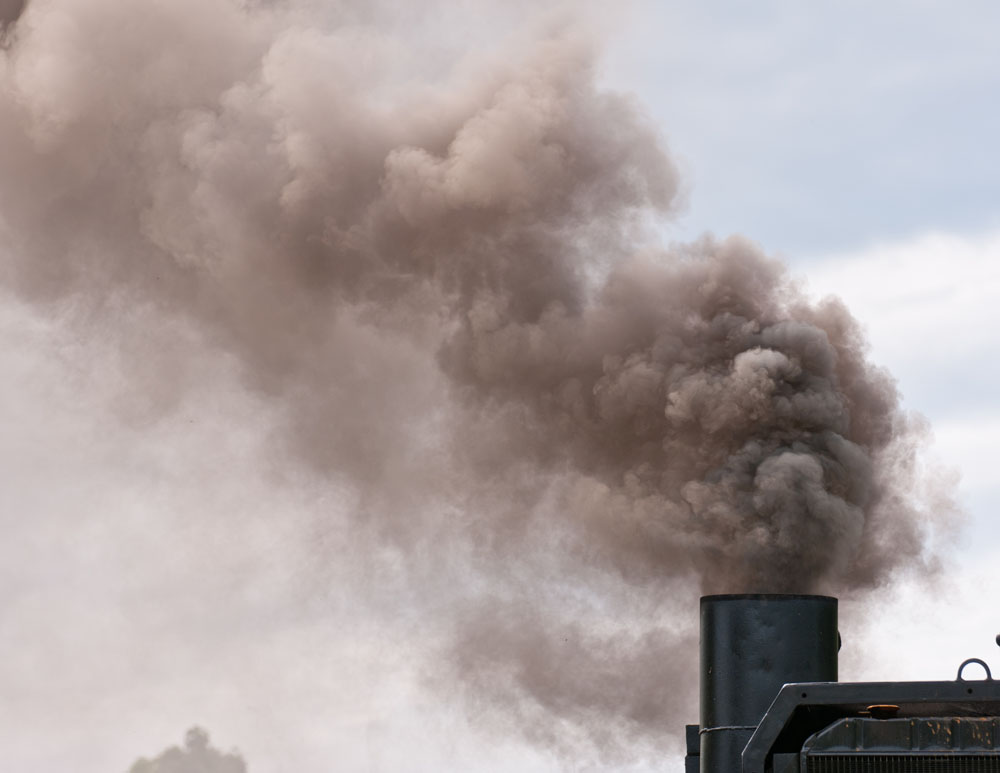dust: (9, 7, 664, 413), (490, 211, 943, 620)
